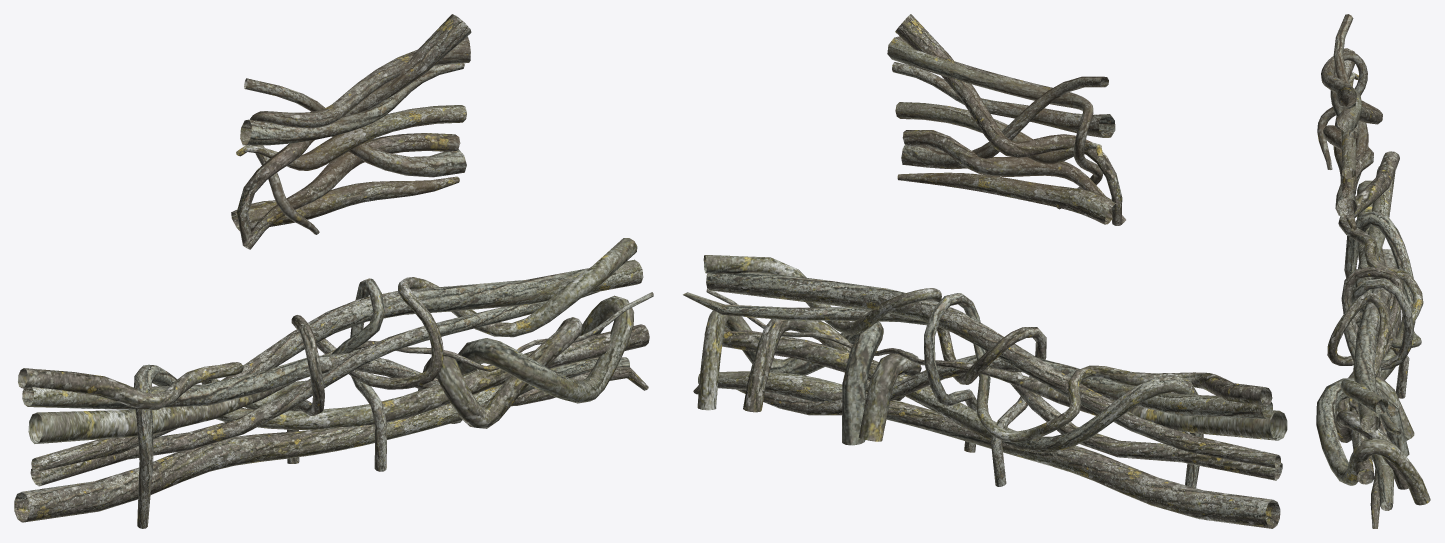
File: tree roots.fbx
The picture shows the model from 3 angles, left to right: view 1: azimuth 30°, elevation 25°; view 2: azimuth 150°, elevation 25°; view 3: azimuth 270°, elevation 25°; orthographic projection. The views are drawn at different scales.
Parts seen in each view (by area): view 1: Tree_roots1, Tree_roots2; view 2: Tree_roots1, Tree_roots2; view 3: Tree_roots1, Tree_roots2.
Boxes of the visible parts, box(x1,y1,x2,y2) form: Tree_roots1: box(14, 238, 653, 528); Tree_roots2: box(231, 14, 471, 249); Tree_roots1: box(683, 255, 1287, 528); Tree_roots2: box(887, 14, 1125, 225); Tree_roots1: box(1316, 151, 1430, 528); Tree_roots2: box(1317, 14, 1382, 230).
Bounding box in the file's own units: 1273 × 870 × 247.
2 materials, 2 textured.
